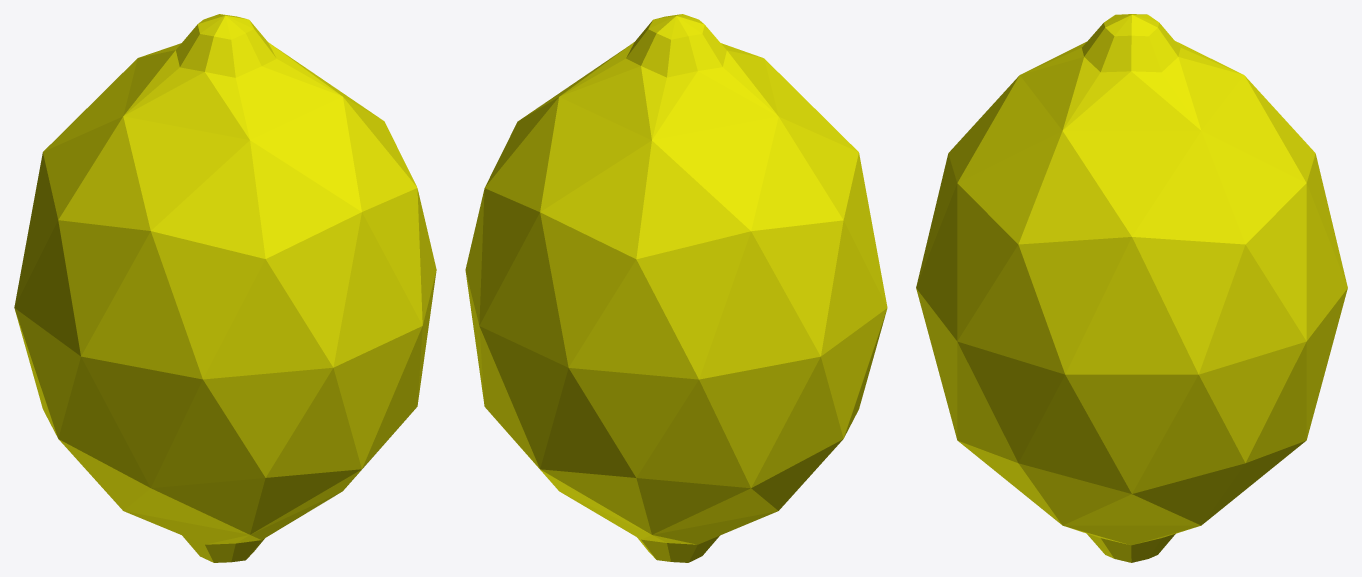
The model's file is Lemon.fbx.
3 renders of one model, left to right at view 1: azimuth 30°, elevation 25°; view 2: azimuth 150°, elevation 25°; view 3: azimuth 270°, elevation 25°, orthographic.
Visible parts, largest first — view 1: Lemon; view 2: Lemon; view 3: Lemon.
Boxes of the visible parts, box(x1,y1,x2,y2) form: Lemon: box(14, 14, 436, 562); Lemon: box(465, 14, 887, 562); Lemon: box(916, 14, 1347, 562).
Bounding box in the file's own units: 91.3 × 134 × 96.
